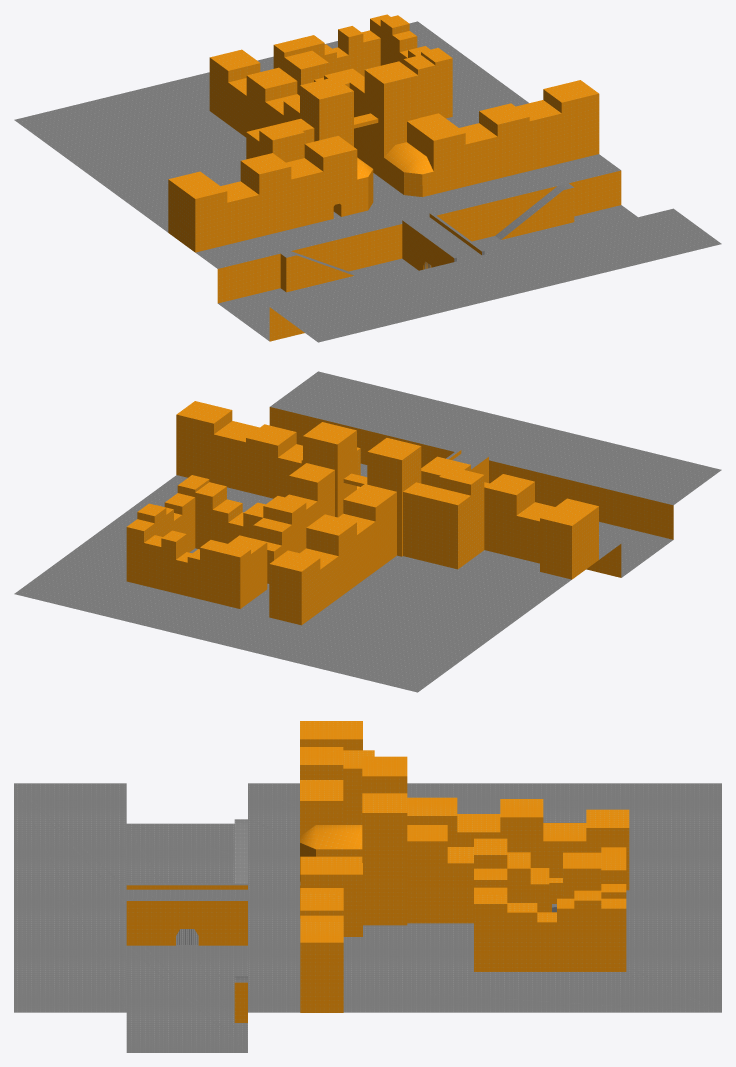
Rendered from sp_defaultwhitebox 1.FBX.
3 renders of one model, top to bottom at view 1: azimuth 30°, elevation 25°; view 2: azimuth 150°, elevation 25°; view 3: azimuth 270°, elevation 25°, orthographic. The views are drawn at different scales.
Visible parts, largest first — view 1: mesh_terrain, mesh_buildings; view 2: mesh_terrain, mesh_buildings; view 3: mesh_terrain, mesh_buildings.
Boxes of the visible parts, x1,y1,x2,y2 form: mesh_terrain: (14,21,721,342); mesh_buildings: (168,14,599,252); mesh_terrain: (14,371,721,692); mesh_buildings: (126,401,598,625); mesh_terrain: (14,783,721,1052); mesh_buildings: (300,721,629,1012).
Size of the model in its own units: 84.16 by 26.32 by 110.
